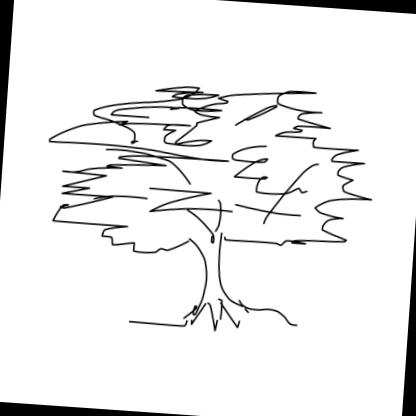crown_dizzy: (41, 74, 379, 270)
trunk_reflex: (189, 244, 234, 296)
